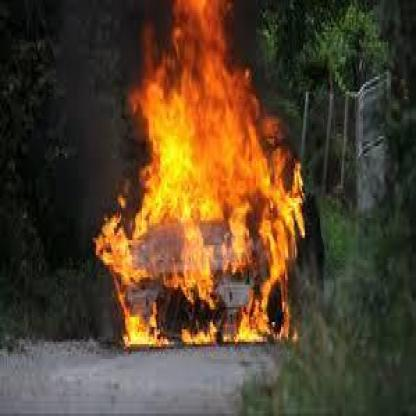fire: (71, 13, 331, 343)
